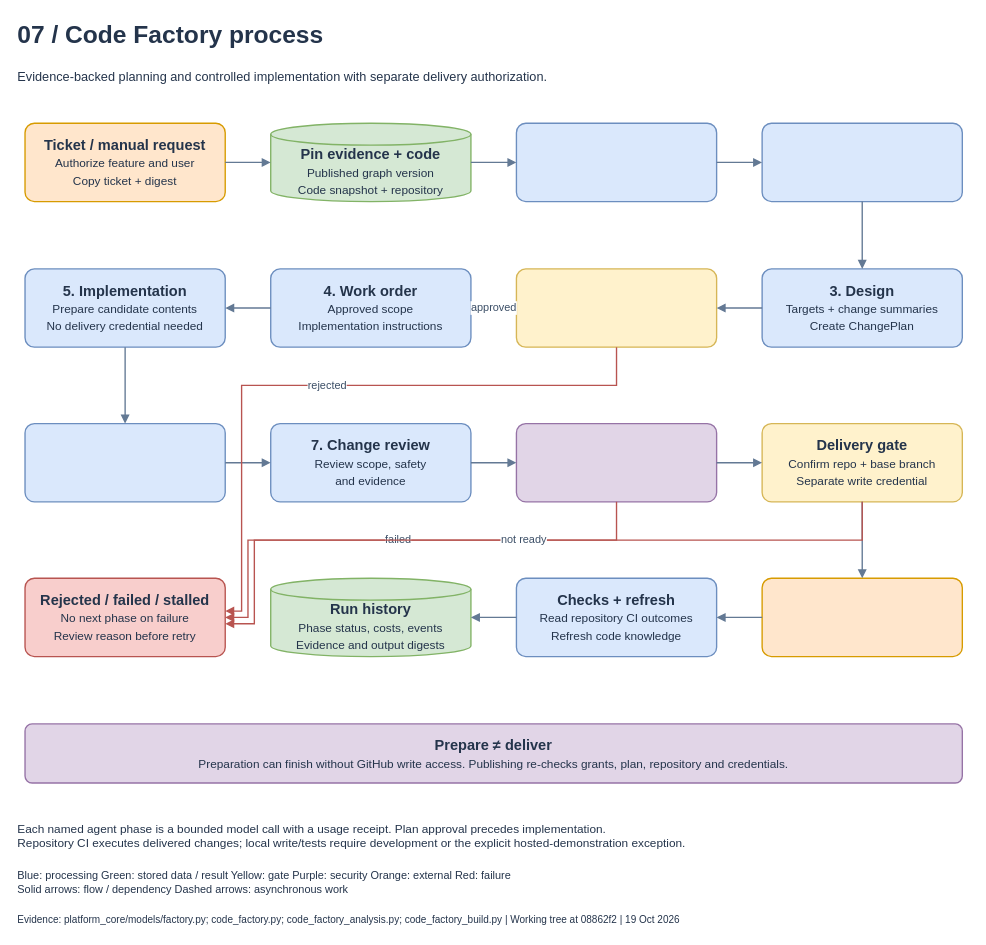
Image size: 986x945. Some labels were removed from this diagram. The shapes that lost their labels are listed below. From the top down, each one's centre as x and y in pixels, then its label:
point (616, 162): 1. Triage Classify request Extract stated requirements
point (862, 162): 2. Analysis Stated / functional / NFR gaps Cite verified evidence
point (616, 307): Plan approval Authorized approver reviews Reject or approve digest
point (124, 462): 6. Test author Produce relevant tests Against approved changes
point (616, 462): 8. Verification Check prepared change Record phase result
point (862, 617): 9. Delivery GitHub branch + pull request Or permitted local demo delivery
